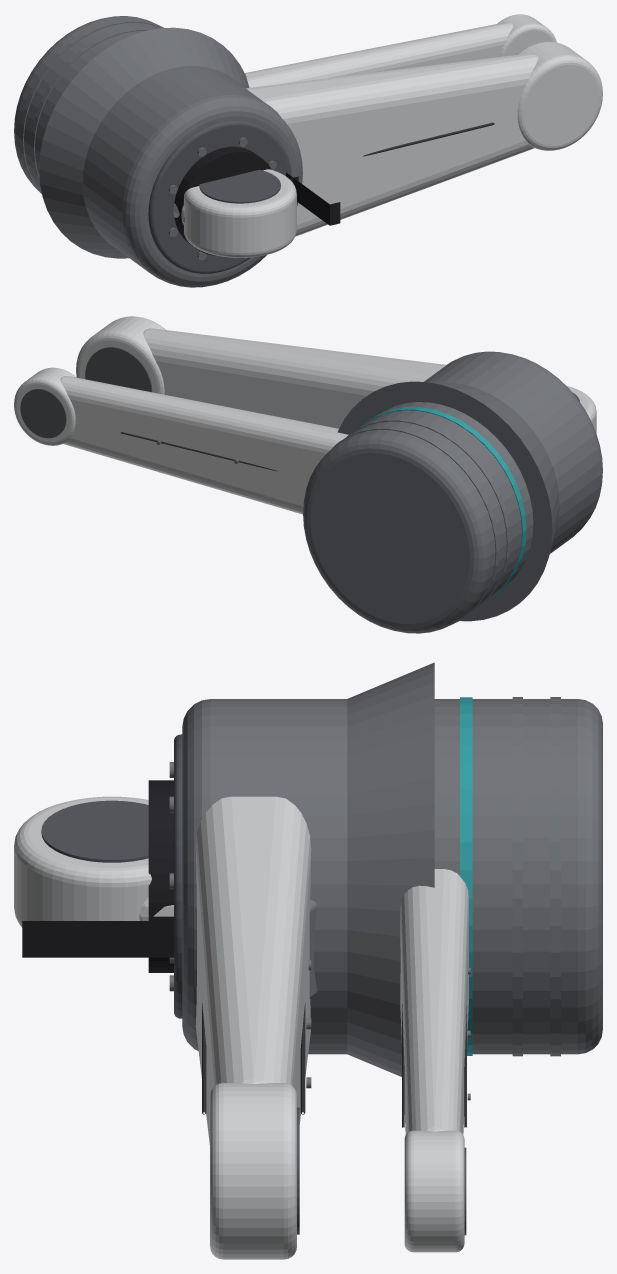
The model's file is arm.glb.
The picture shows the model from 3 angles, top to bottom: view 1: azimuth 30°, elevation 25°; view 2: azimuth 150°, elevation 25°; view 3: azimuth 270°, elevation 25°; orthographic projection. The views are drawn at different scales.
Visible parts, largest first — view 1: b3, b1, b2, b4, b6; view 2: b3, b4, b1, b2; view 3: b3, b1, b4, b2, b6.
Boxes of the visible parts, x1=… form: b3: x1=14, y1=16, x2=602, y2=287; b1: x1=39, y1=27, x2=249, y2=258; b2: x1=173, y1=169, x2=296, y2=257; b4: x1=244, y1=14, x2=556, y2=87; b6: x1=174, y1=146, x2=340, y2=255; b3: x1=76, y1=316, x2=602, y2=633; b4: x1=14, y1=367, x2=348, y2=514; b1: x1=337, y1=381, x2=559, y2=621; b2: x1=567, y1=386, x2=596, y2=433; b3: x1=169, y1=697, x2=602, y2=1259; b1: x1=347, y1=662, x2=434, y2=1076; b4: x1=400, y1=869, x2=470, y2=1252; b2: x1=14, y1=796, x2=173, y2=927; b6: x1=22, y1=780, x2=174, y2=972.
Bounding box in the file's own units: 0.4015 × 0.1687 × 0.2318.
